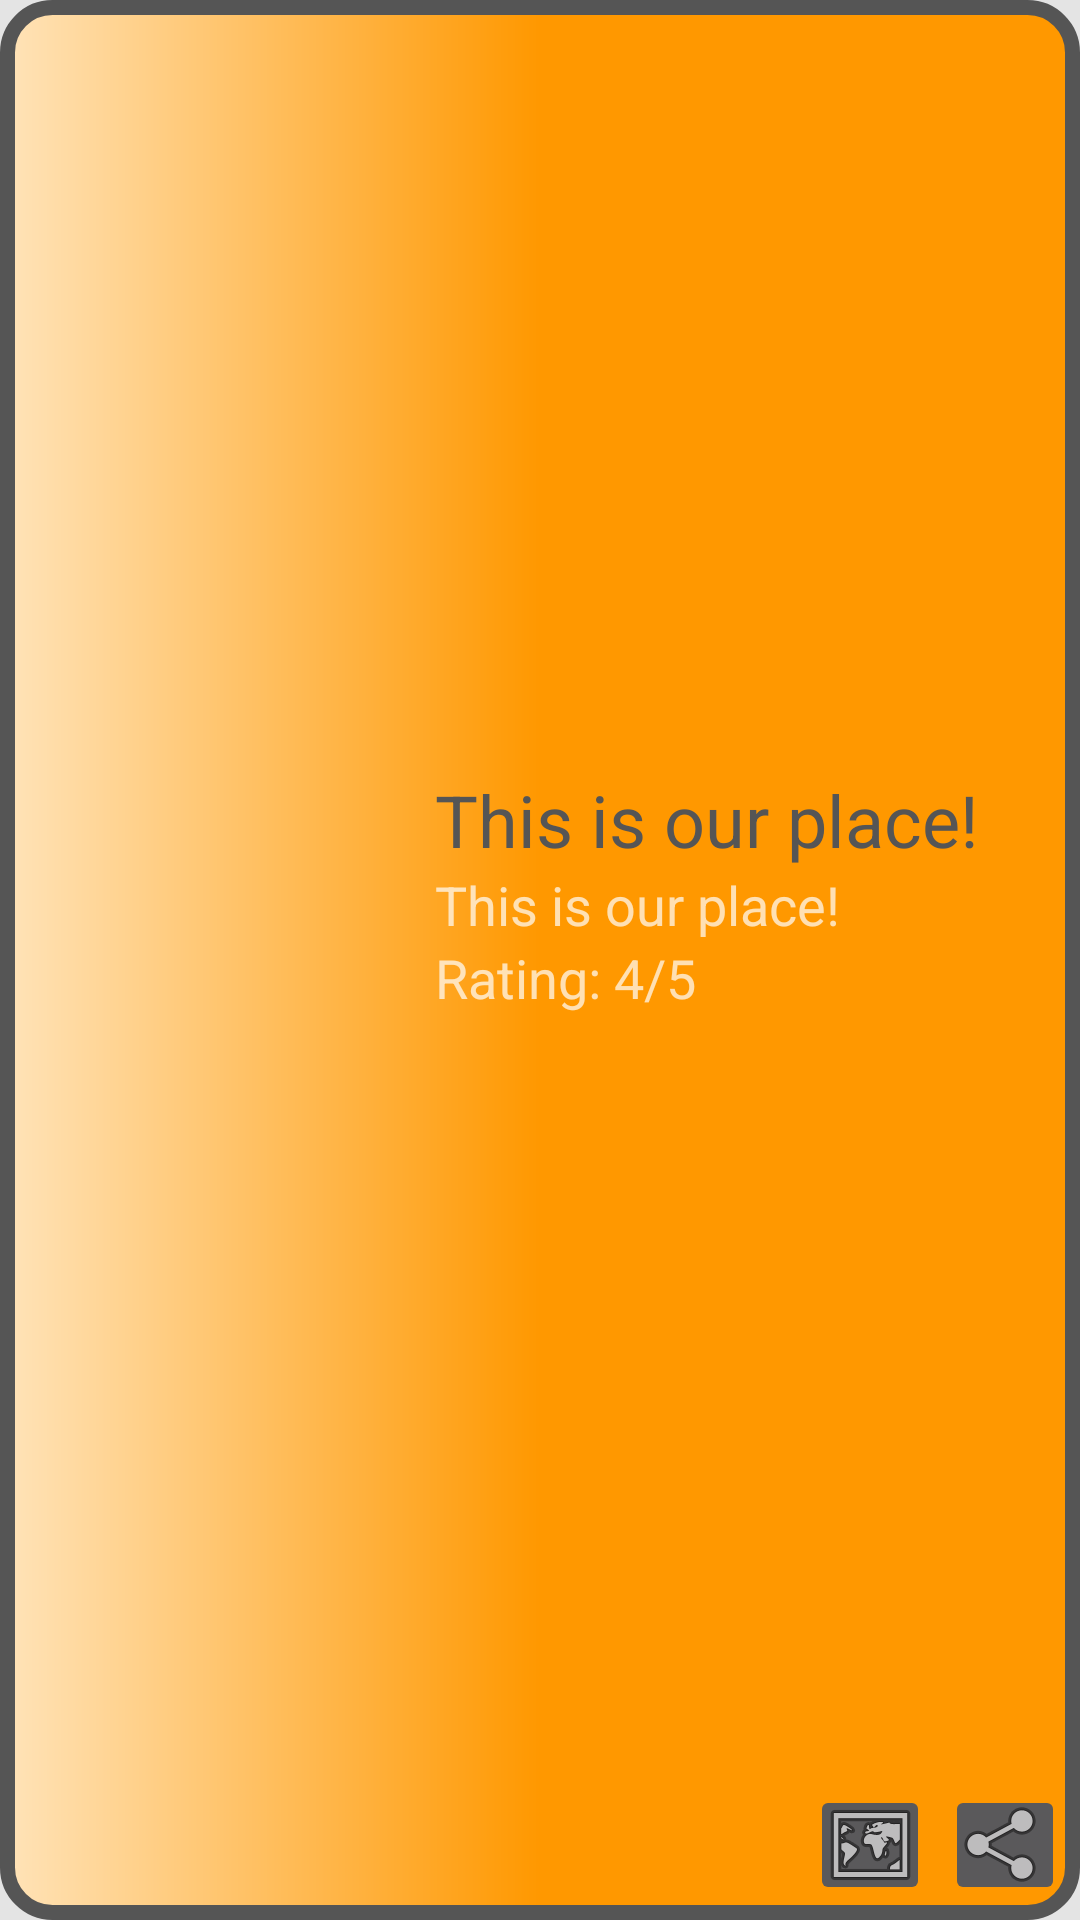

Where to tap for icons on this 1080w x 1920h app screen, as point (x, y):
mapmode: point (870, 1845)
share: point (1005, 1845)
